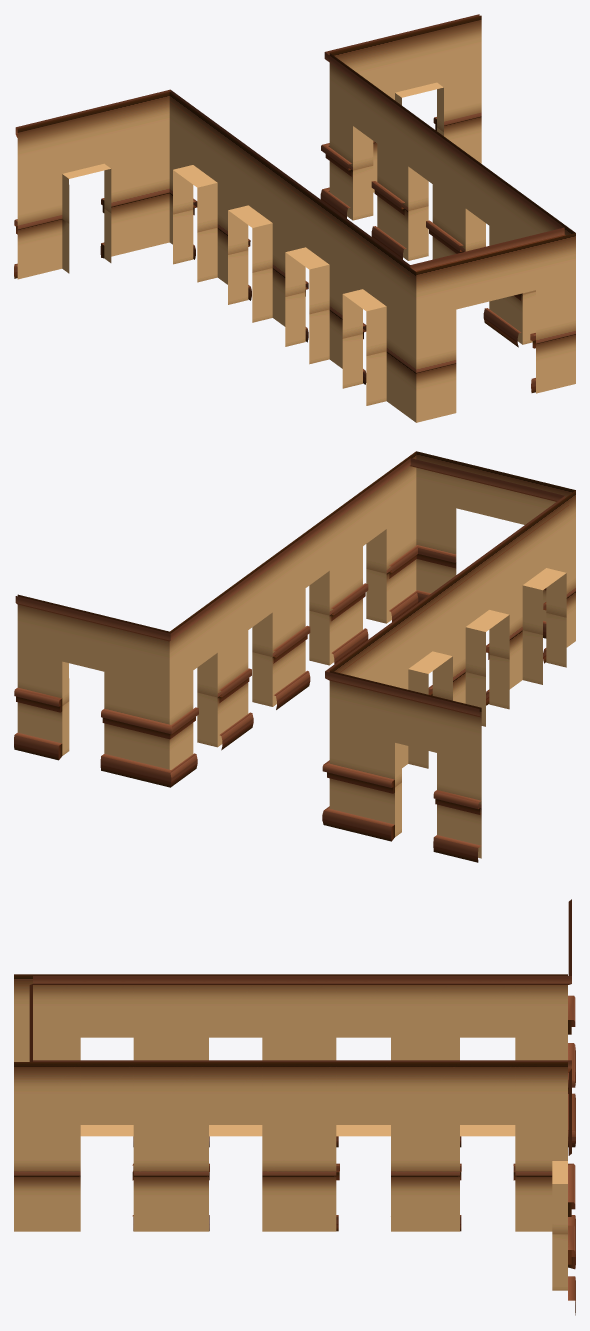
File: bg_walls_2.FBX
3 views of the same model, one above another, from view 1: azimuth 30°, elevation 25°; view 2: azimuth 150°, elevation 25°; view 3: azimuth 270°, elevation 25° (orthographic). The views are drawn at different scales.
Visible parts, largest first — view 1: Mesh_0011; view 2: Mesh_0011; view 3: Mesh_0011.
Part boxes in pixels (x1,y1,x2,y2): Mesh_0011: (14,14,575,422); Mesh_0011: (14,451,575,862); Mesh_0011: (14,899,575,1315).
Size of the model in its own units: 3858 by 1213 by 3601.
